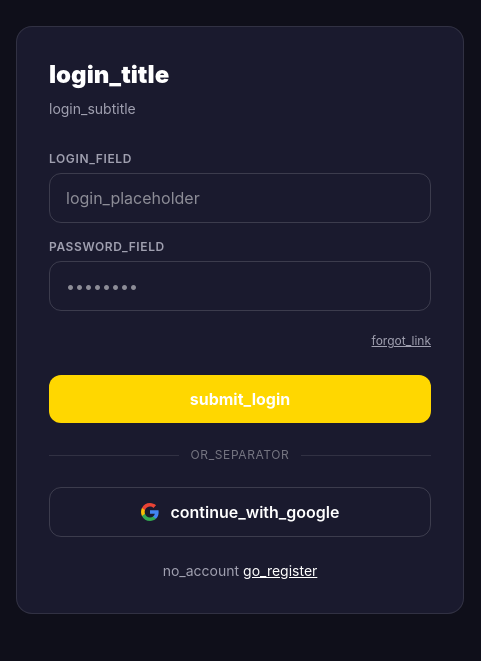
it: LoginPage › falls back to error_invalid when the server provides no message
Type "aram" into the field with placeholder "login_placeholder" at [240, 198], box [49,173,431,223]
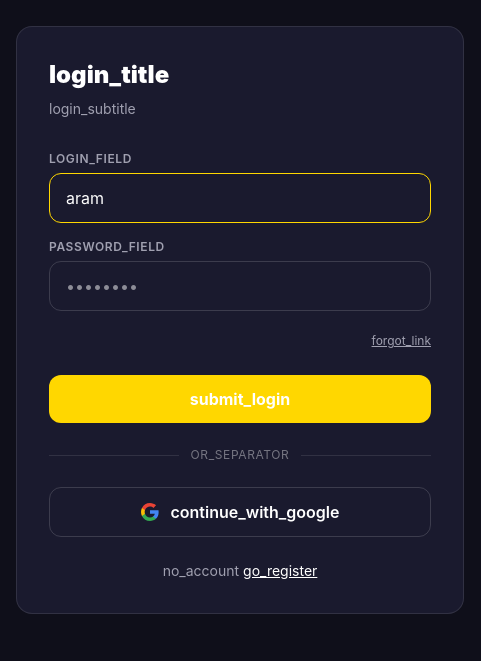
Type "pw" into the password field with placeholder "••••••••" at [240, 286], box [49,261,431,311]
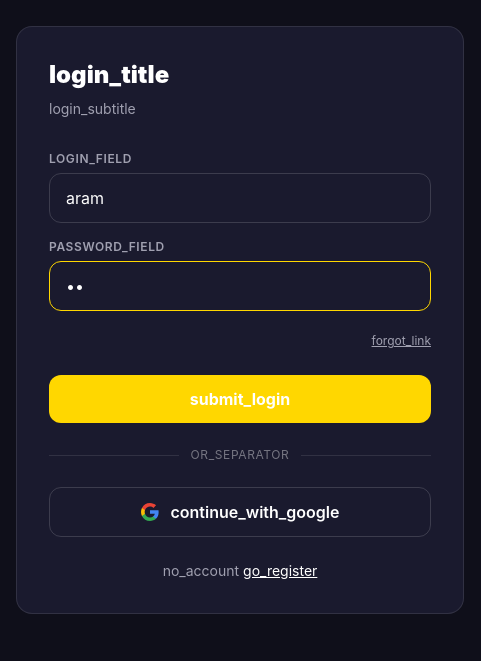
Click the button "submit_login" at [240, 399], box [49,375,431,423]
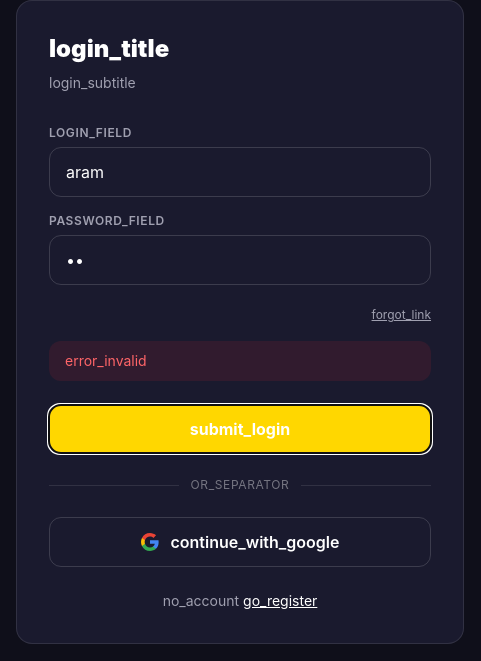
expect the text "error_invalid" is shown: met, box [49,341,431,381]
